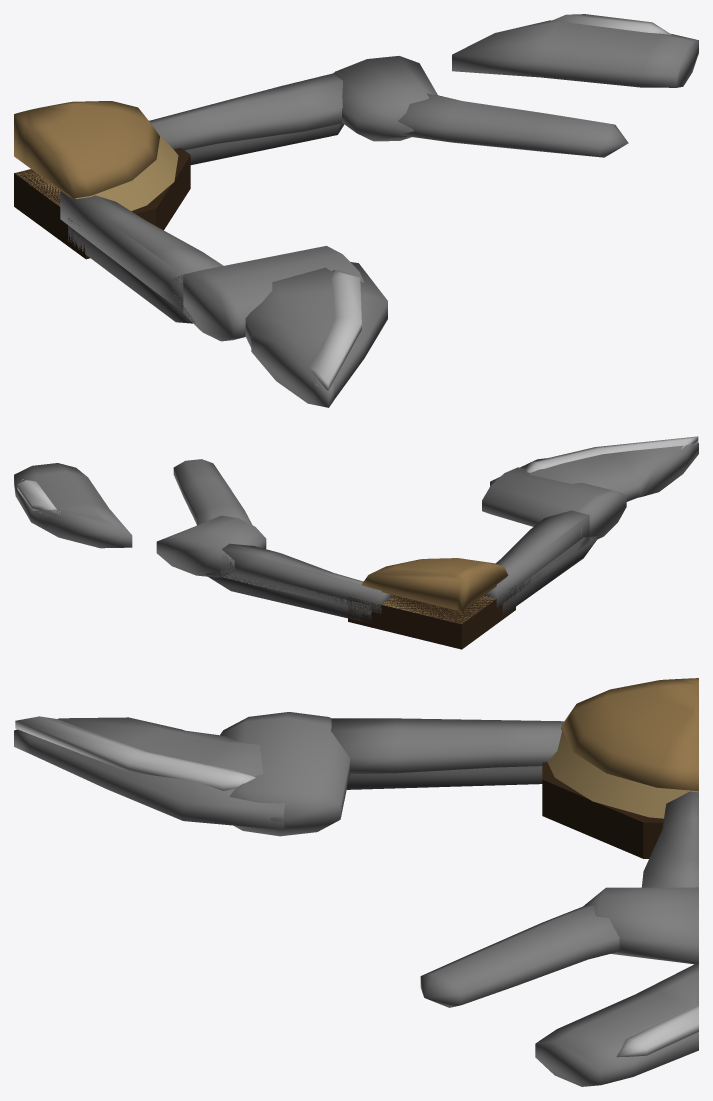
The model's file is newsh-hash-41-f3.glb.
3 views of the same model, one above another, from view 1: azimuth 30°, elevation 25°; view 2: azimuth 150°, elevation 25°; view 3: azimuth 270°, elevation 25° (orthographic). The views are drawn at different scales.
Parts seen in each view (by area): view 1: newsh-hash-41-f3; view 2: newsh-hash-41-f3; view 3: newsh-hash-41-f3.
Part boxes in pixels (bbox=[...]): newsh-hash-41-f3: bbox=[14, 14, 698, 407]; newsh-hash-41-f3: bbox=[14, 436, 698, 649]; newsh-hash-41-f3: bbox=[14, 678, 698, 1086].
Bounding box in the file's own units: 2 × 0.2774 × 1.7.
